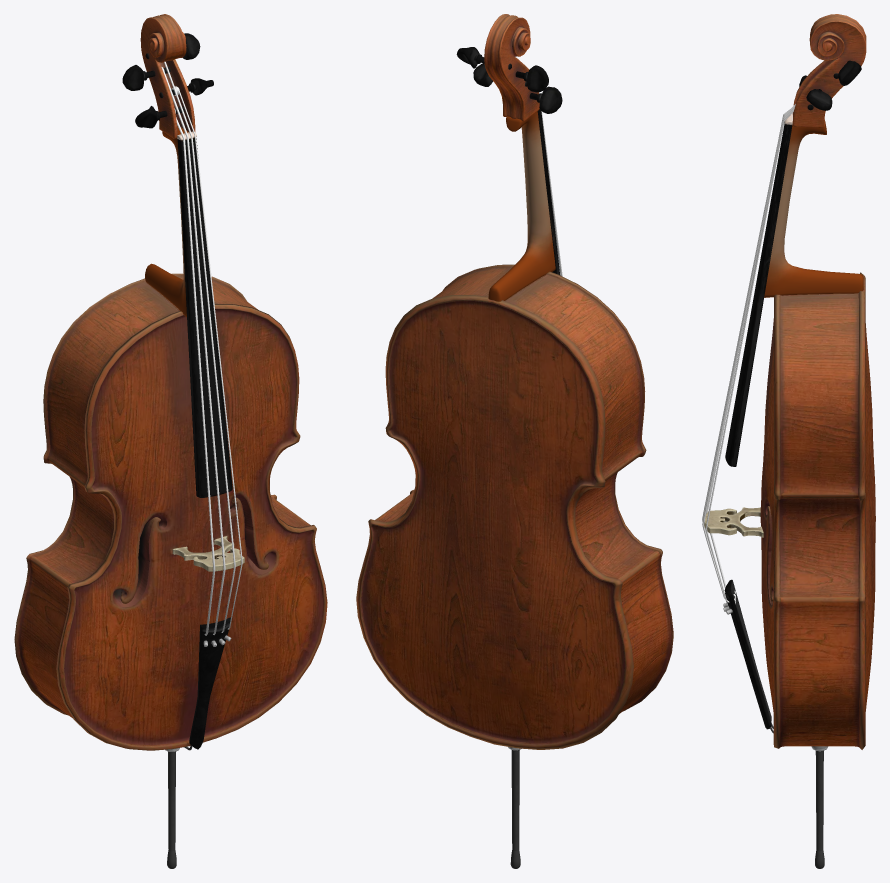
File: cello.glb
The picture shows the model from 3 angles, left to right: view 1: azimuth 30°, elevation 25°; view 2: azimuth 150°, elevation 25°; view 3: azimuth 270°, elevation 25°; orthographic projection.
Parts seen in each view (by area): view 1: cello_cello_mat01_0, cello_cello_mat02_0; view 2: cello_cello_mat01_0, cello_cello_mat02_0; view 3: cello_cello_mat01_0, cello_cello_mat02_0.
Boxes of the visible parts, x1=… form: cello_cello_mat01_0: x1=14, y1=273, x2=327, y2=750; cello_cello_mat02_0: x1=122, y1=14, x2=244, y2=868; cello_cello_mat01_0: x1=356, y1=264, x2=673, y2=749; cello_cello_mat02_0: x1=456, y1=14, x2=562, y2=868; cello_cello_mat01_0: x1=760, y1=272, x2=875, y2=749; cello_cello_mat02_0: x1=702, y1=14, x2=866, y2=868.
Size of the model in its own units: 0.4762 by 1.4 by 0.2598.
Materials: 2 (2 with a texture image).
